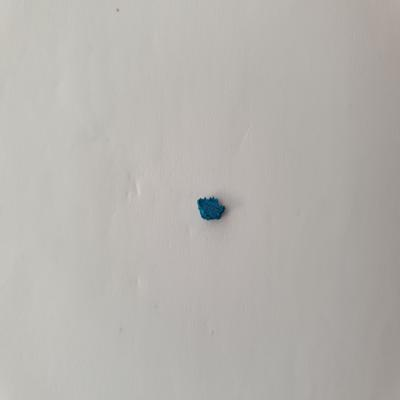plastic: (195, 190, 228, 225)
